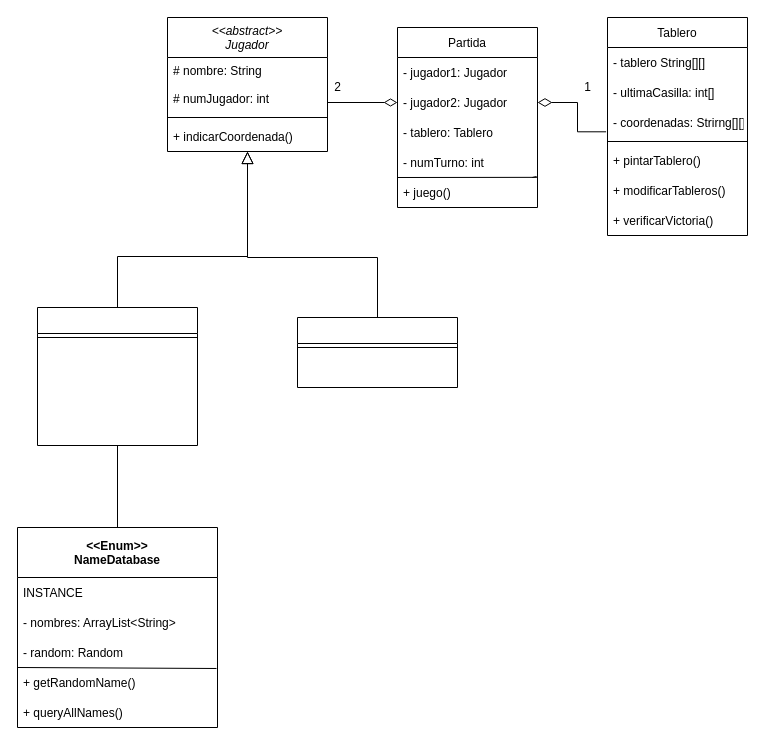
This 765x745 diagram has some shape labels left out. Here are the shapes that lost their labels. From the top down, the centre of each, then its label:
[377,352]: Persona
[117,376]: Ia
